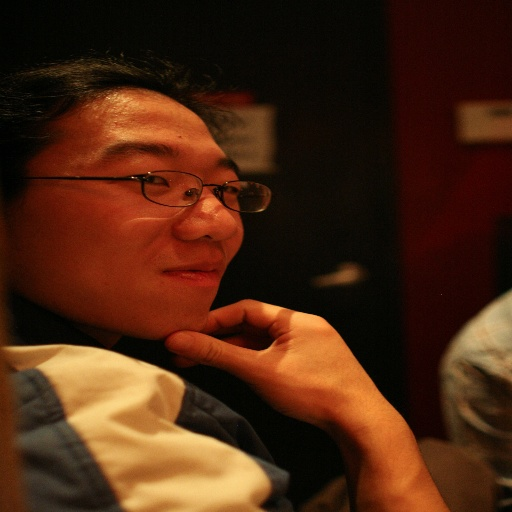hand: (169, 293, 433, 488)
